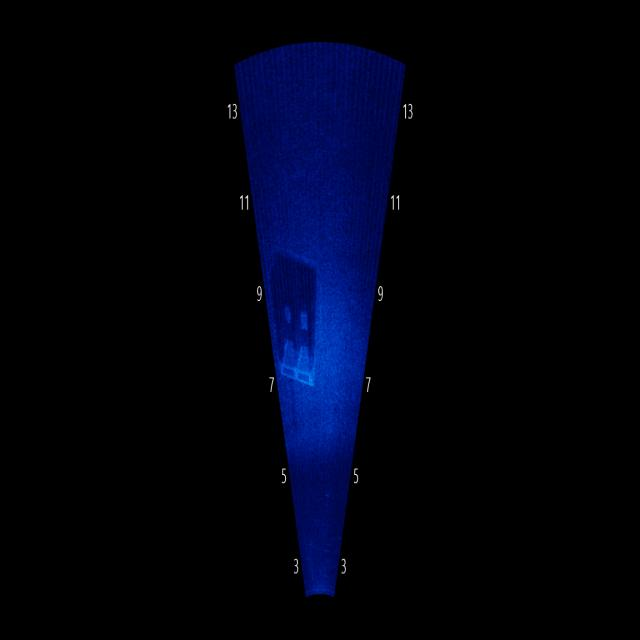square: (276, 329, 324, 399)
